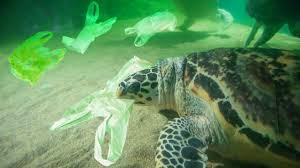Trash: (50, 52, 147, 164), (7, 26, 66, 82), (127, 8, 187, 42)
